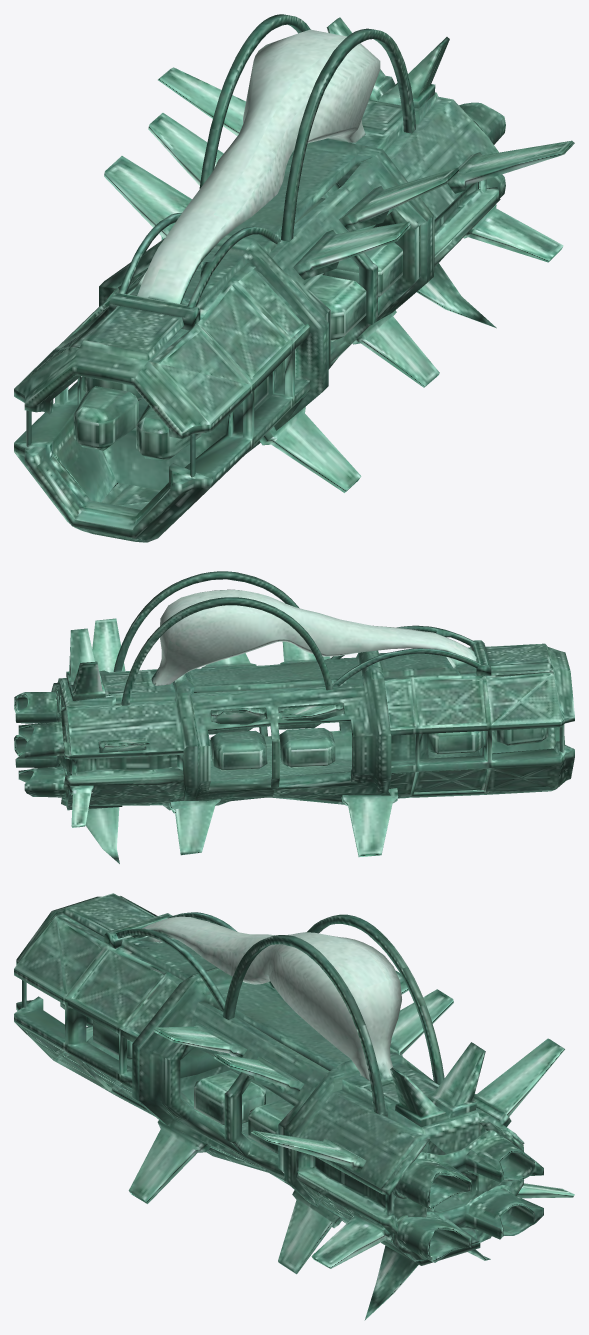
The model's file is gallion_tripo.glb.
3 views of the same model, one above another, from view 1: azimuth 30°, elevation 25°; view 2: azimuth 150°, elevation 25°; view 3: azimuth 270°, elevation 25° (orthographic). The views are drawn at different scales.
Parts seen in each view (by area): view 1: tripo_node_4b554fcb-1c58-43c0-b1cd-14cf92281c3f; view 2: tripo_node_4b554fcb-1c58-43c0-b1cd-14cf92281c3f; view 3: tripo_node_4b554fcb-1c58-43c0-b1cd-14cf92281c3f.
Boxes of the visible parts, x1,y1,x2,y2 form: tripo_node_4b554fcb-1c58-43c0-b1cd-14cf92281c3f: (14, 14, 574, 542); tripo_node_4b554fcb-1c58-43c0-b1cd-14cf92281c3f: (14, 571, 574, 863); tripo_node_4b554fcb-1c58-43c0-b1cd-14cf92281c3f: (14, 893, 574, 1320).
Bounding box in the file's own units: 0.9995 × 0.5239 × 0.8813.
1 material, 1 textured.
